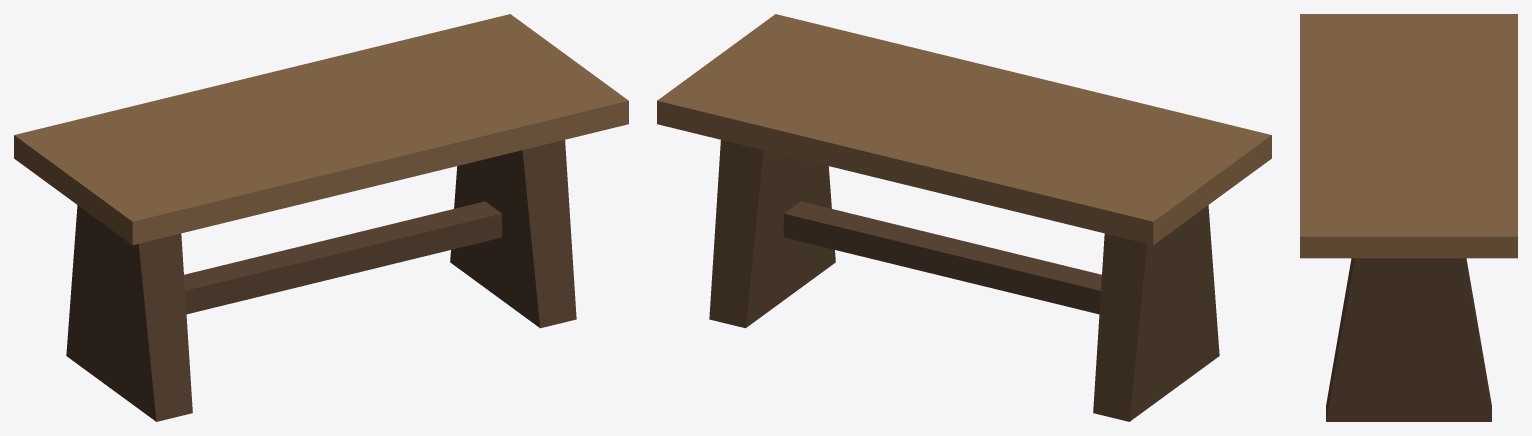
The model's file is work_table.glb.
The picture shows the model from 3 angles, left to right: view 1: azimuth 30°, elevation 25°; view 2: azimuth 150°, elevation 25°; view 3: azimuth 270°, elevation 25°; orthographic projection. The views are drawn at different scales.
Visible parts, largest first — view 1: Work table; view 2: Work table; view 3: Work table.
Boxes of the visible parts, x1=… form: Work table: x1=14, y1=14, x2=628, y2=421; Work table: x1=657, y1=14, x2=1271, y2=421; Work table: x1=1300, y1=14, x2=1517, y2=421.
Size of the model in its own units: 1.5 by 0.635 by 0.62.
